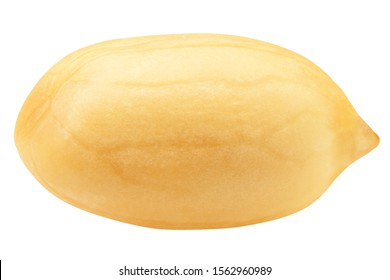peanut: (13, 34, 380, 230)
